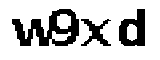9: (51, 9, 80, 48)
d: (117, 5, 148, 49)
w: (9, 15, 55, 49)
x: (82, 16, 112, 47)
